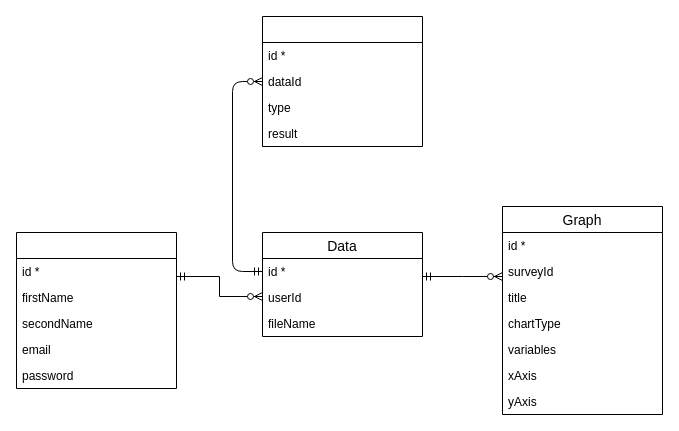
This 679x431 diagram has some shape labels left out. The shapes that lost their labels are listed below. From the top down, each one's box as (x1, y1, x2, y2) in pixels, then its label:
(262, 16, 422, 146): StatisticalTest
(16, 232, 176, 388): User
